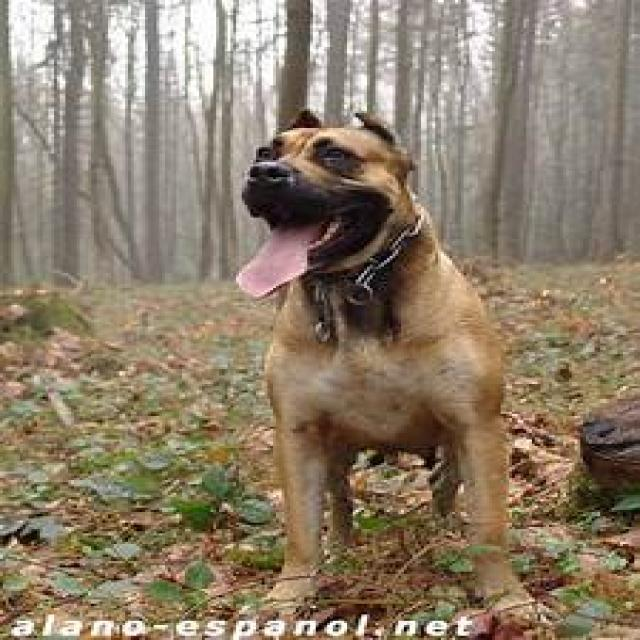dog: (233, 111, 532, 617)
